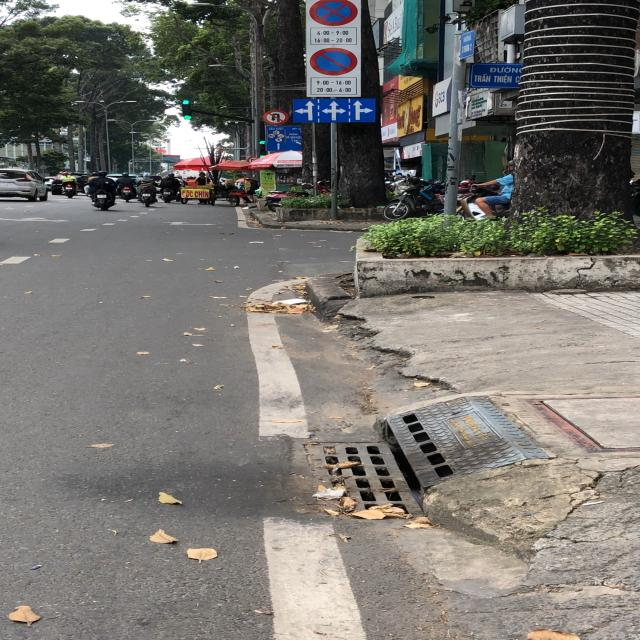Bien bao cam do xe: (309, 46, 365, 79)
Bien bao cam dung xe va do xe: (308, 0, 359, 28)
